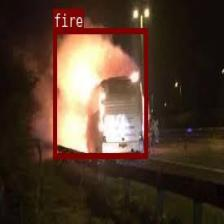fire: (53, 27, 148, 157)
